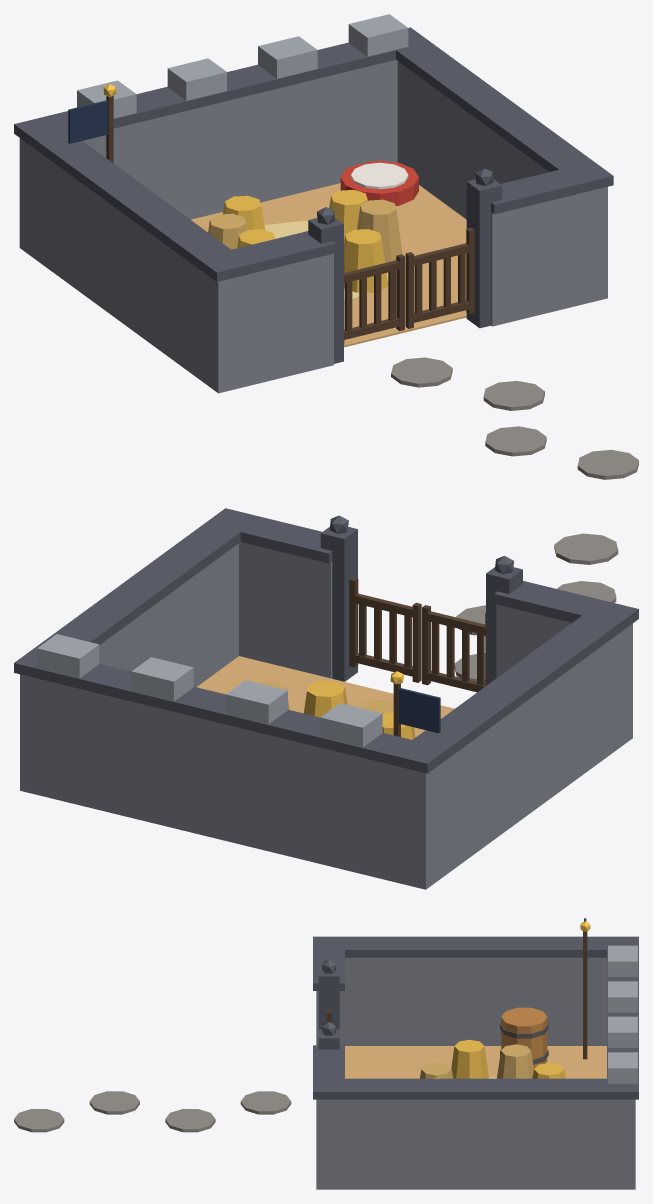
Rendered from CatCafe_Nook_Castle.glb.
3 views of the same model, one above another, from view 1: azimuth 30°, elevation 25°; view 2: azimuth 150°, elevation 25°; view 3: azimuth 270°, elevation 25° (orthographic). The views are drawn at different scales.
Parts seen in each view (by area): view 1: CatCafe_Nook_Castle, CatCafe_Nook_Castle_Decor, CatCafe_Nook_Castle_Trap, CatCafe_Nook_Castle_GateL, CatCafe_Nook_Castle_GateR; view 2: CatCafe_Nook_Castle, CatCafe_Nook_Castle_Decor, CatCafe_Nook_Castle_GateL, CatCafe_Nook_Castle_GateR, CatCafe_Nook_Castle_Trap; view 3: CatCafe_Nook_Castle, CatCafe_Nook_Castle_Decor, CatCafe_Nook_Castle_Trap.
Part boxes in pixels (x1,y1,x2,y2): CatCafe_Nook_Castle: [14, 14, 613, 393]; CatCafe_Nook_Castle_Decor: [191, 183, 638, 479]; CatCafe_Nook_Castle_Trap: [208, 190, 402, 300]; CatCafe_Nook_Castle_GateL: [405, 227, 474, 328]; CatCafe_Nook_Castle_GateR: [344, 254, 404, 344]; CatCafe_Nook_Castle: [14, 508, 638, 889]; CatCafe_Nook_Castle_Decor: [197, 533, 618, 737]; CatCafe_Nook_Castle_GateL: [349, 577, 421, 682]; CatCafe_Nook_Castle_GateR: [422, 605, 485, 692]; CatCafe_Nook_Castle_Trap: [258, 681, 415, 739]; CatCafe_Nook_Castle: [313, 918, 638, 1189]; CatCafe_Nook_Castle_Decor: [14, 1046, 606, 1132]; CatCafe_Nook_Castle_Trap: [420, 1039, 565, 1078].
Bounding box in the file's own units: 8.76 × 3.64 × 14.88.
1 material, 1 textured.
